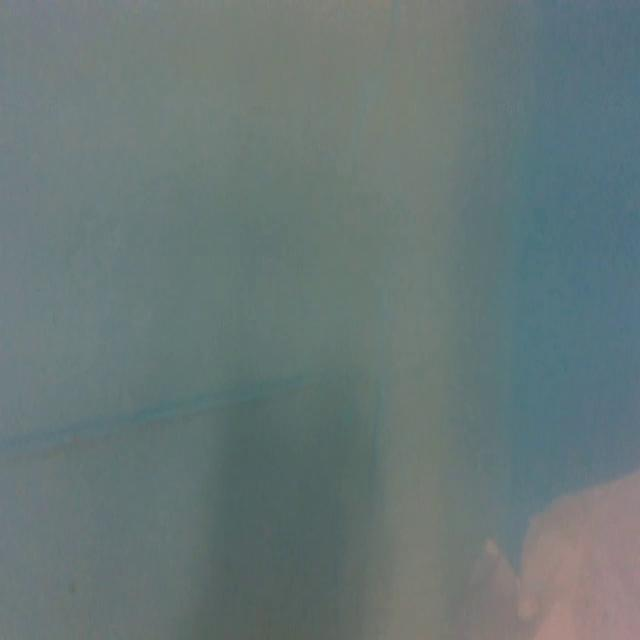plastic bags: (452, 465, 640, 640)
